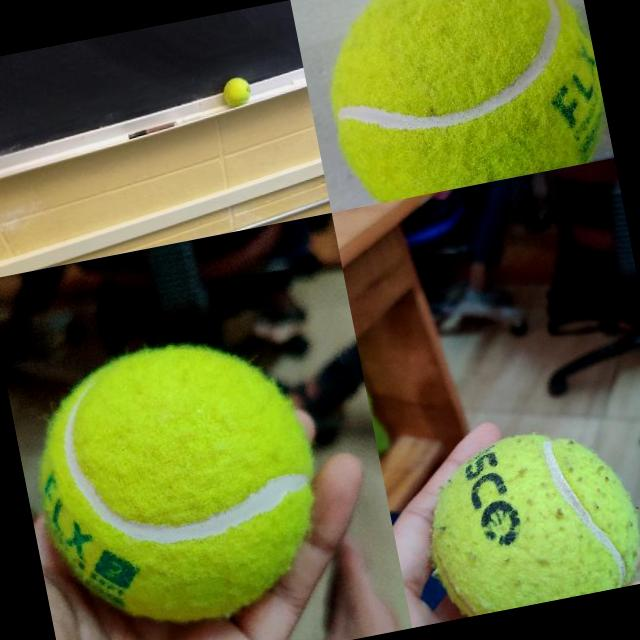tennis-ball: (18, 322, 337, 640), (309, 0, 613, 208), (411, 413, 640, 621), (220, 74, 253, 107)
